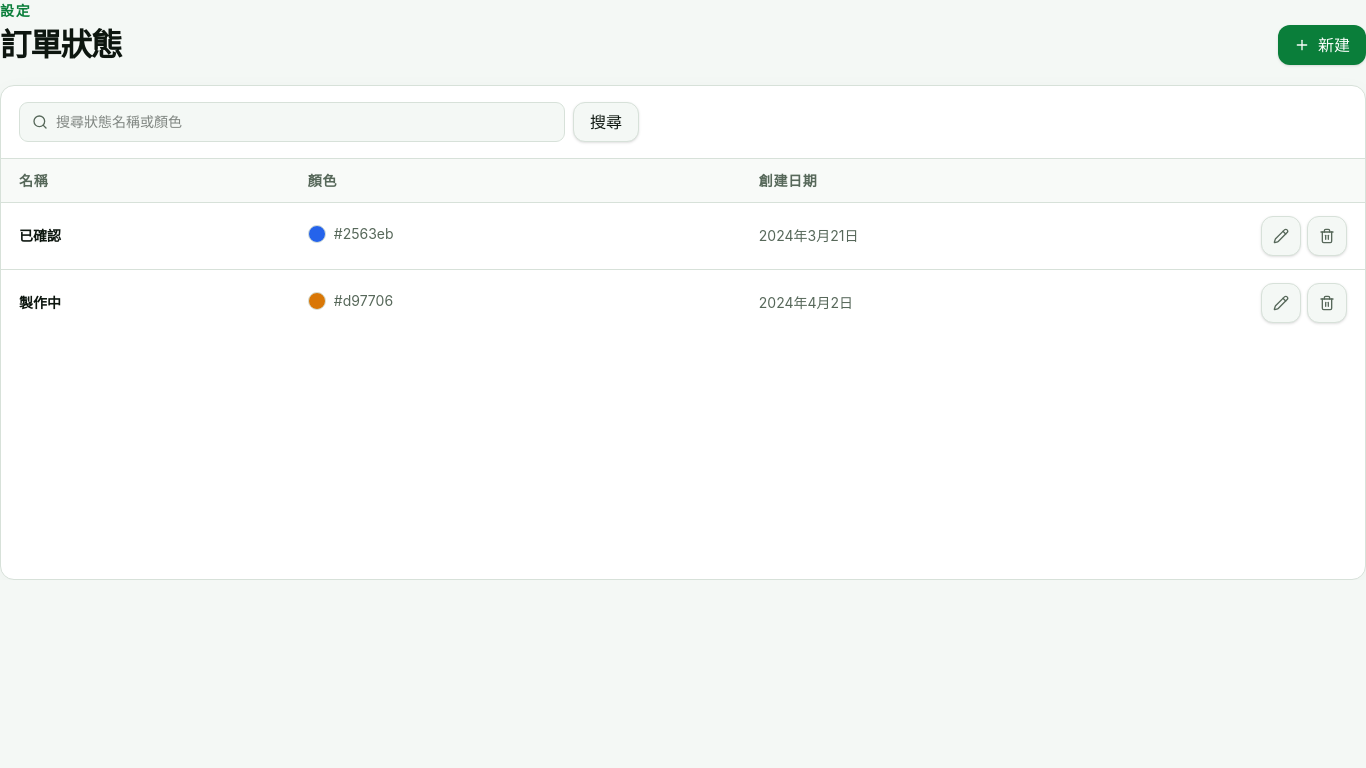
Test: Order status page › opens the edit panel and updates name and color
Expected: the text "已確認" is shown, [19,227,61,244]
Click the button named "編輯" in the row of "已確認". click: (1281,236)
box: [1261,216,1301,256]
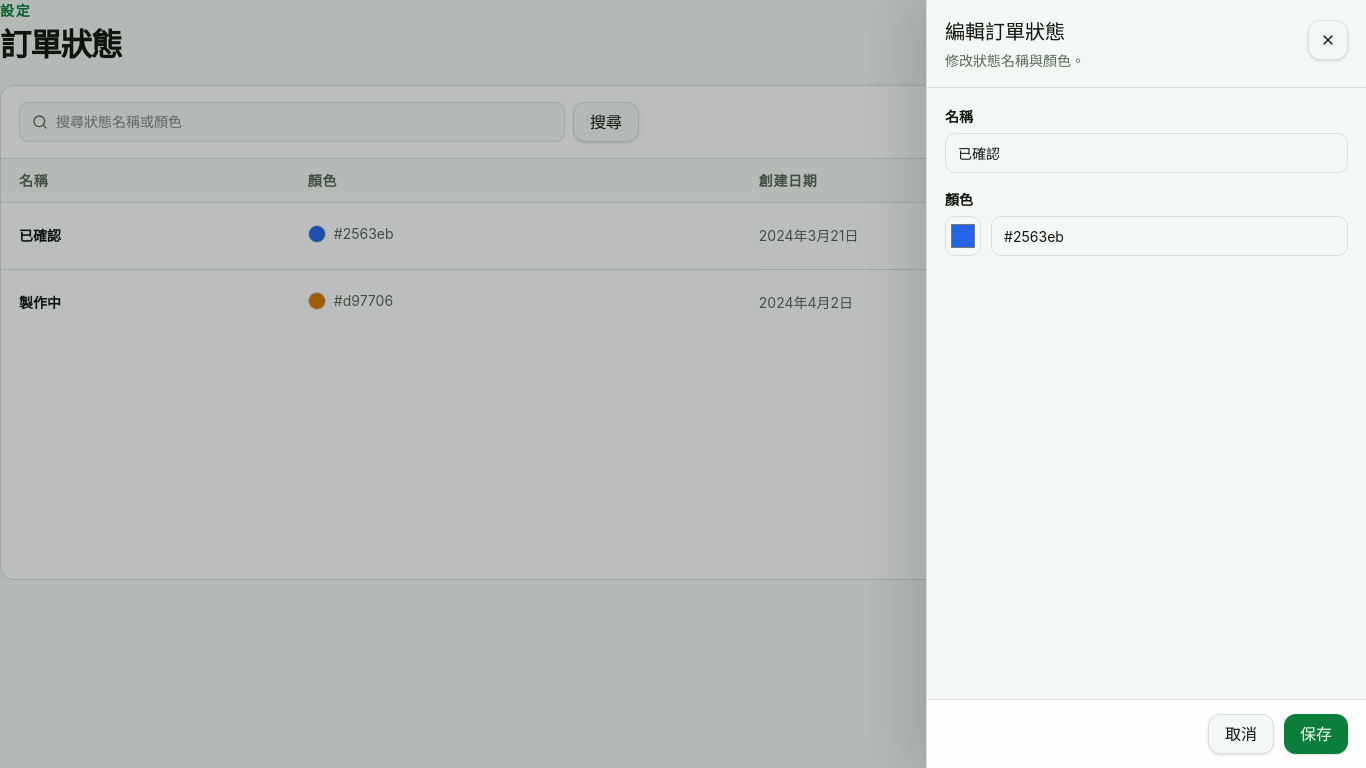
Result: the dialog "編輯訂單狀態" is shown at [926,0,1365,767]
Result: the field with placeholder "輸入狀態名稱" holds "已確認"
Result: the field with placeholder "例如：#FF0000" holds "#2563eb" at [991,216,1348,256]
Replace the text in the field with placeholder "輸入狀態名稱" with "已確認改". click: (1146,153)
box: [945,133,1348,173]
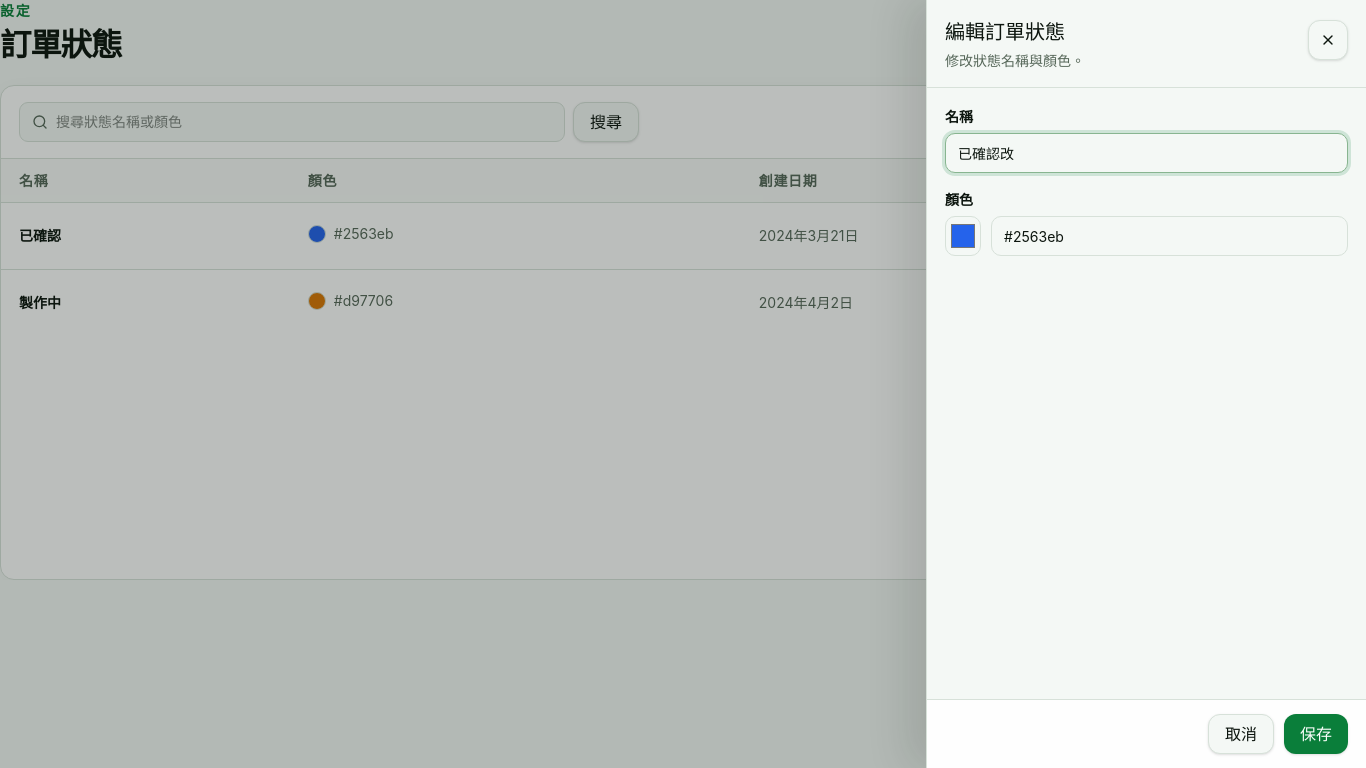
Replace the text in the field with placeholder "例如：#FF0000" with "#dc2626". click: (1170,236)
box: [991,216,1348,256]
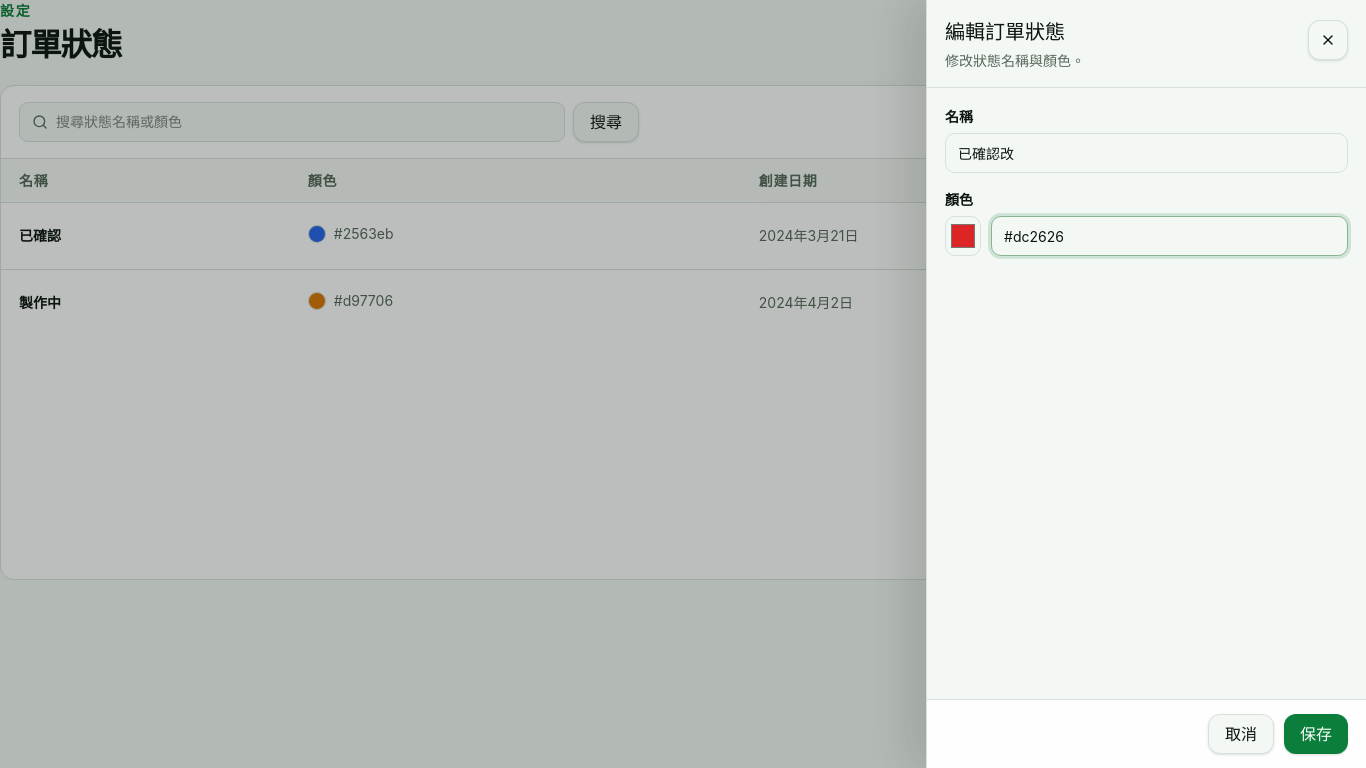
Click the button "保存". click: (1316,734)
box: [1284,714,1348,754]
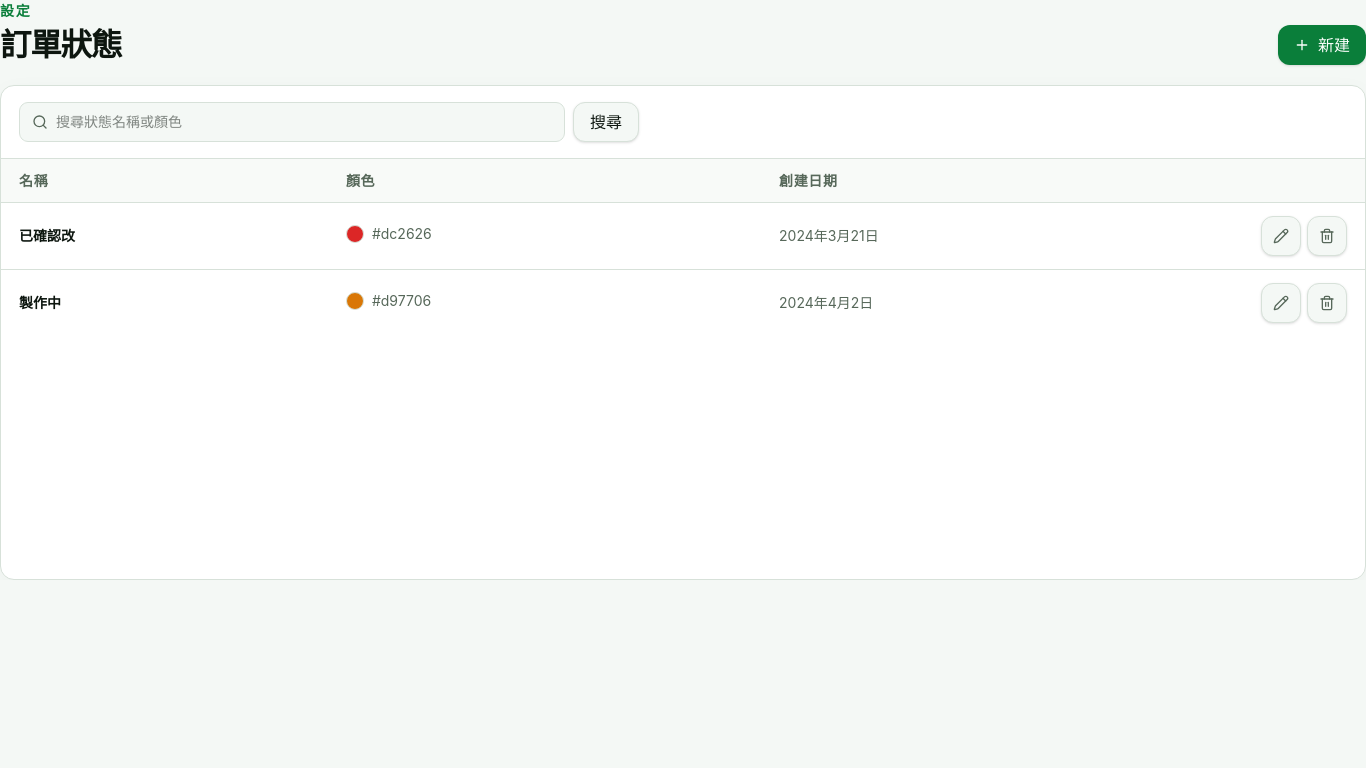
Expected: the text "製作中" is shown, [19,294,61,311]
Result: the text "已確認改" is shown at [19,227,75,244]
